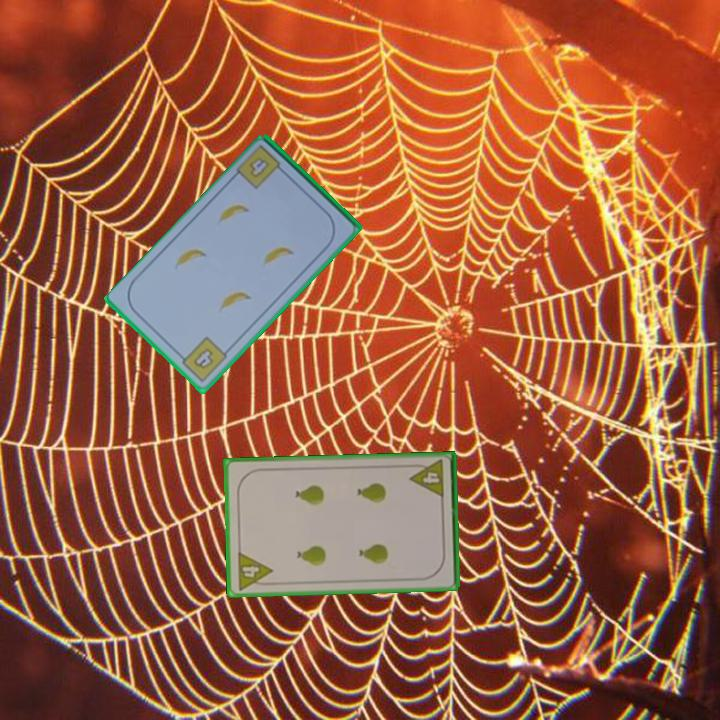4b: (175, 333, 230, 385), (246, 154, 272, 181)
4p: (233, 548, 275, 593), (407, 456, 447, 501)
